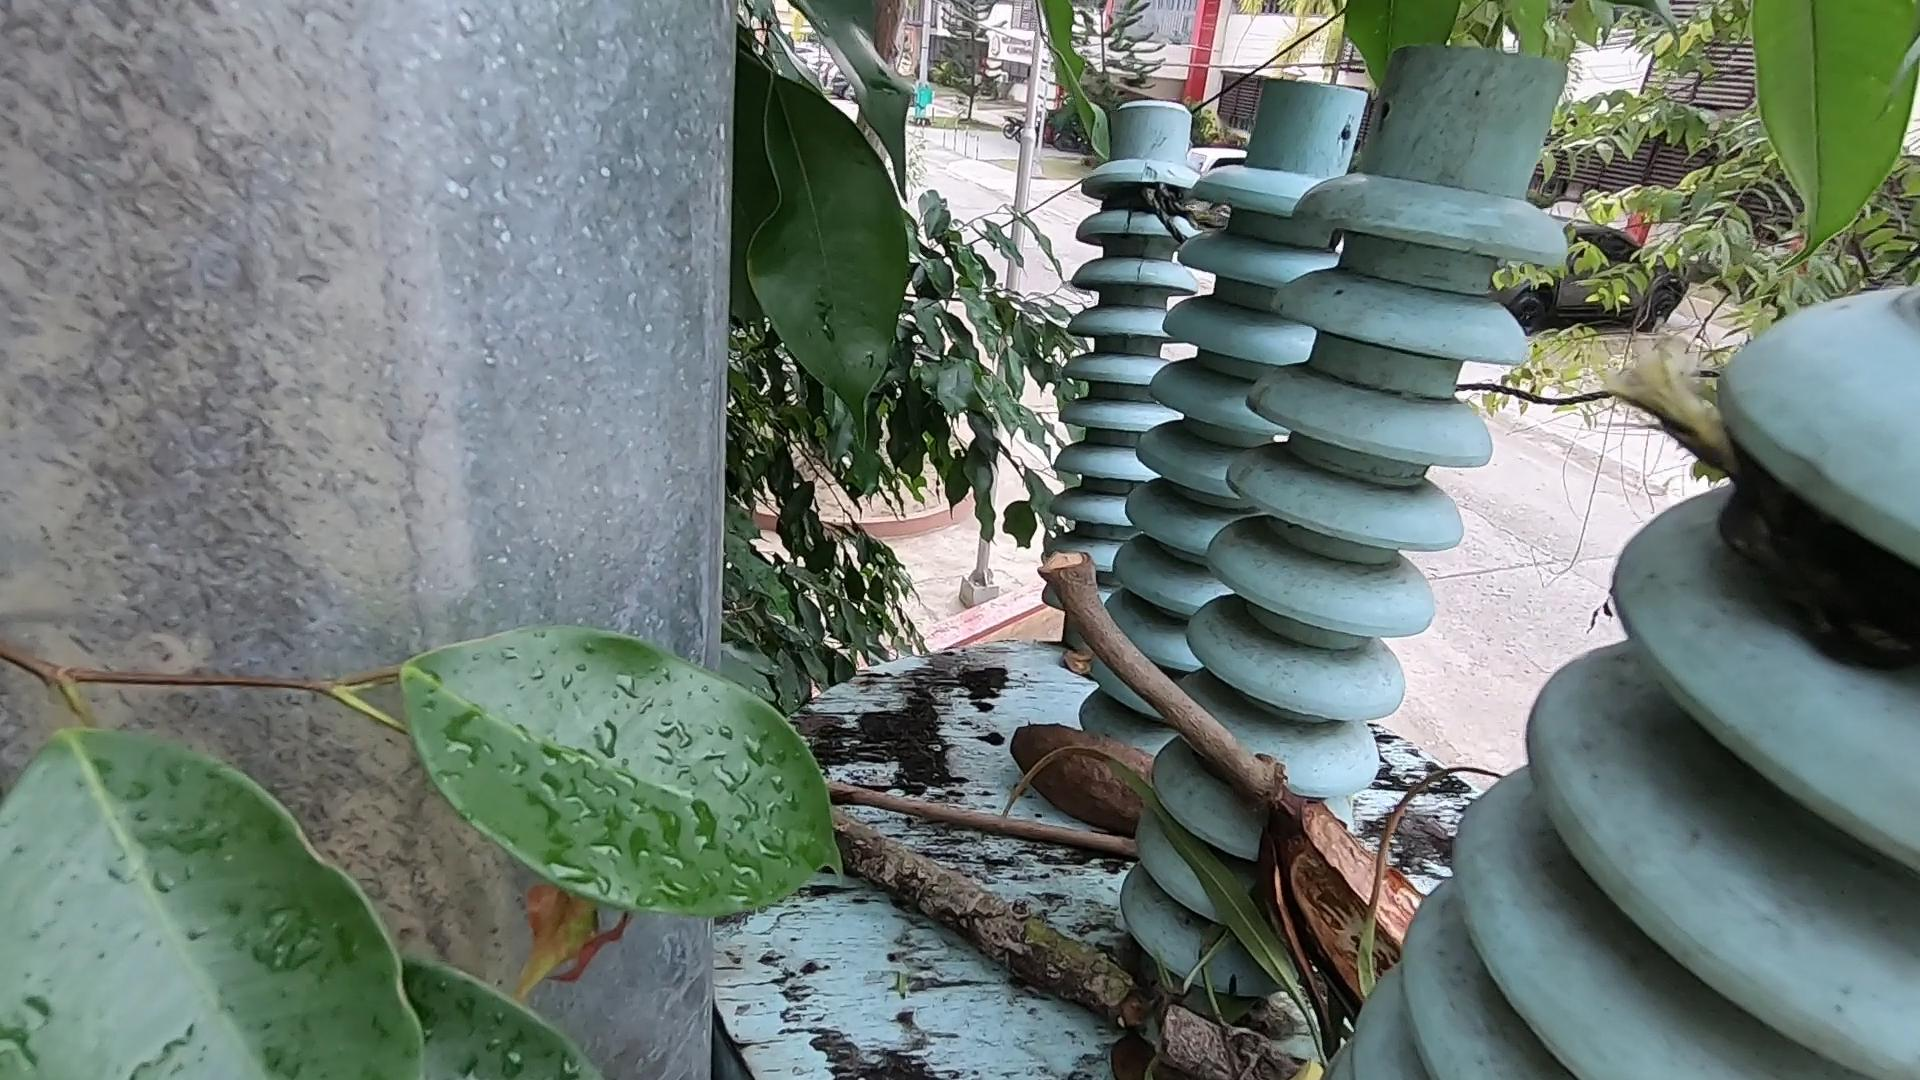branch with leaves: (833, 815, 1320, 1080)
leaf: (1054, 752, 1335, 1062), (1114, 1033, 1158, 1080)
mahogany fruit: (1253, 775, 1433, 1036), (986, 702, 1199, 862)
tree branch: (1060, 553, 1291, 808), (822, 785, 1135, 858)
